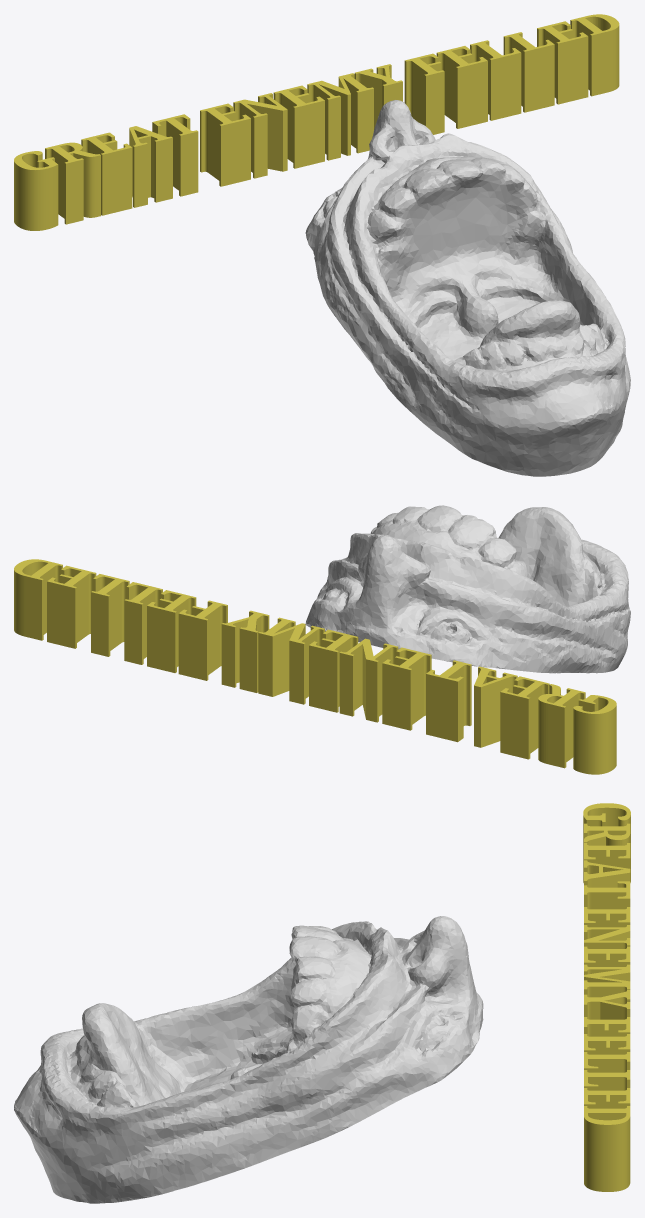
File: tinkercad.glb
3 views of the same model, one above another, from view 1: azimuth 30°, elevation 25°; view 2: azimuth 150°, elevation 25°; view 3: azimuth 270°, elevation 25° (orthographic). The views are drawn at different scales.
Visible parts, largest first — view 1: Mesh_Mesh_head_geo.001_lambert2SG.001; view 2: Mesh_Mesh_head_geo.001_lambert2SG.001; view 3: Mesh_Mesh_head_geo.001_lambert2SG.001.
Boxes of the visible parts, bbox=[...] form: Mesh_Mesh_head_geo.001_lambert2SG.001: bbox=[14, 14, 630, 476]; Mesh_Mesh_head_geo.001_lambert2SG.001: bbox=[14, 505, 630, 774]; Mesh_Mesh_head_geo.001_lambert2SG.001: bbox=[14, 803, 630, 1203].
Bounding box in the file's own units: 0.1438 × 0.0555 × 0.1166.
